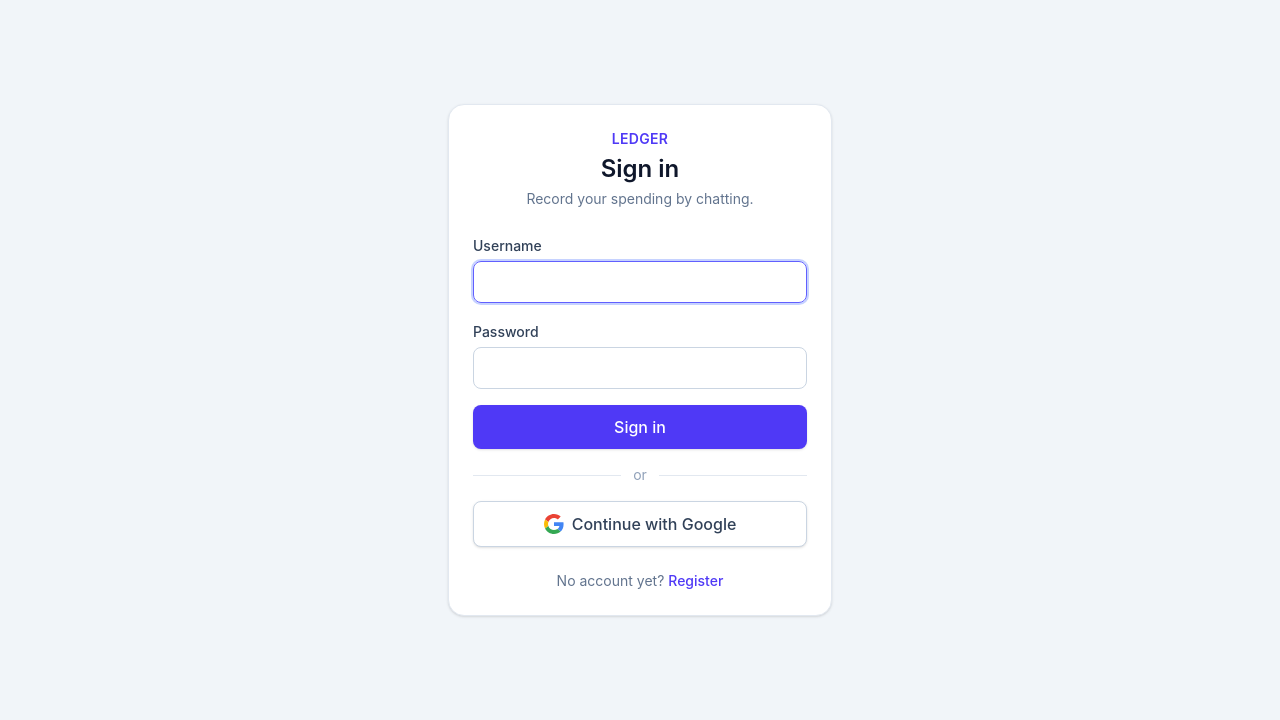
given alice on the chat page › records an expense and shows it
The width and height of the screenshot is (1280, 720).
Type "alice" into the field labelled "Username" at coordinates (640, 282), box top-left (473, 261), bottom-right (807, 303)
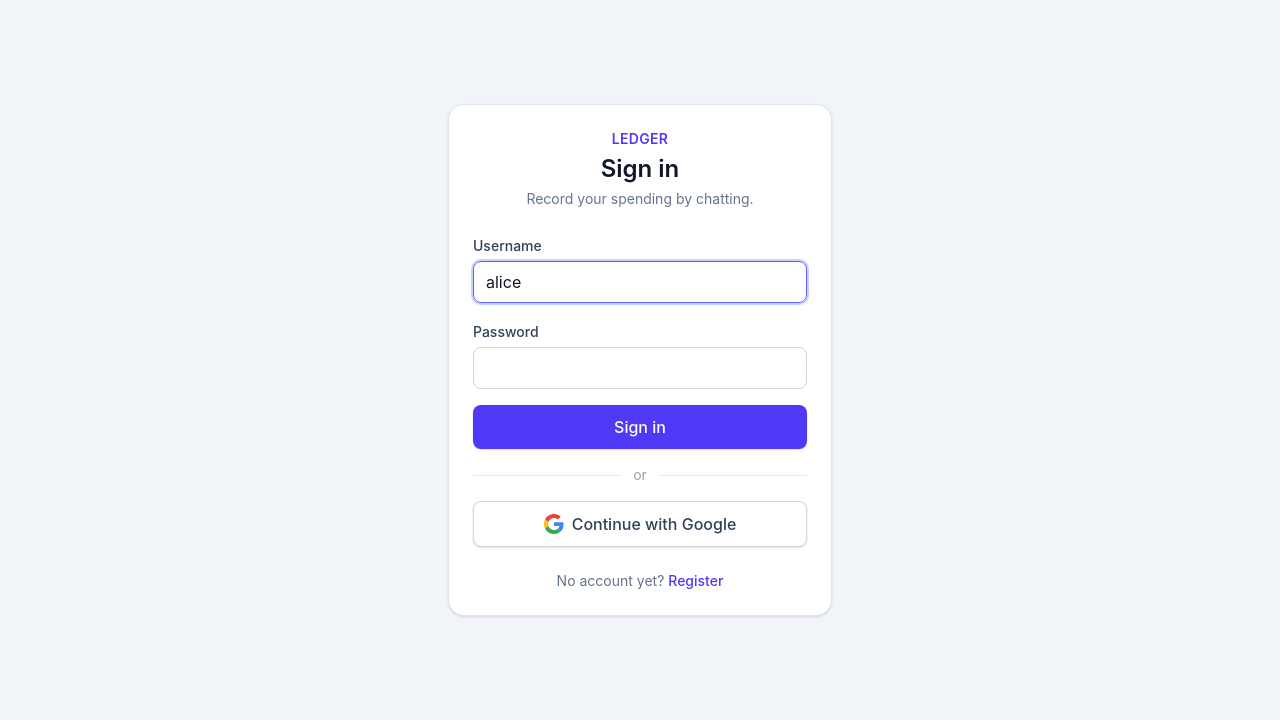
Type "alice-password" into the password field labelled "Password" at coordinates (640, 368), box top-left (473, 347), bottom-right (807, 389)
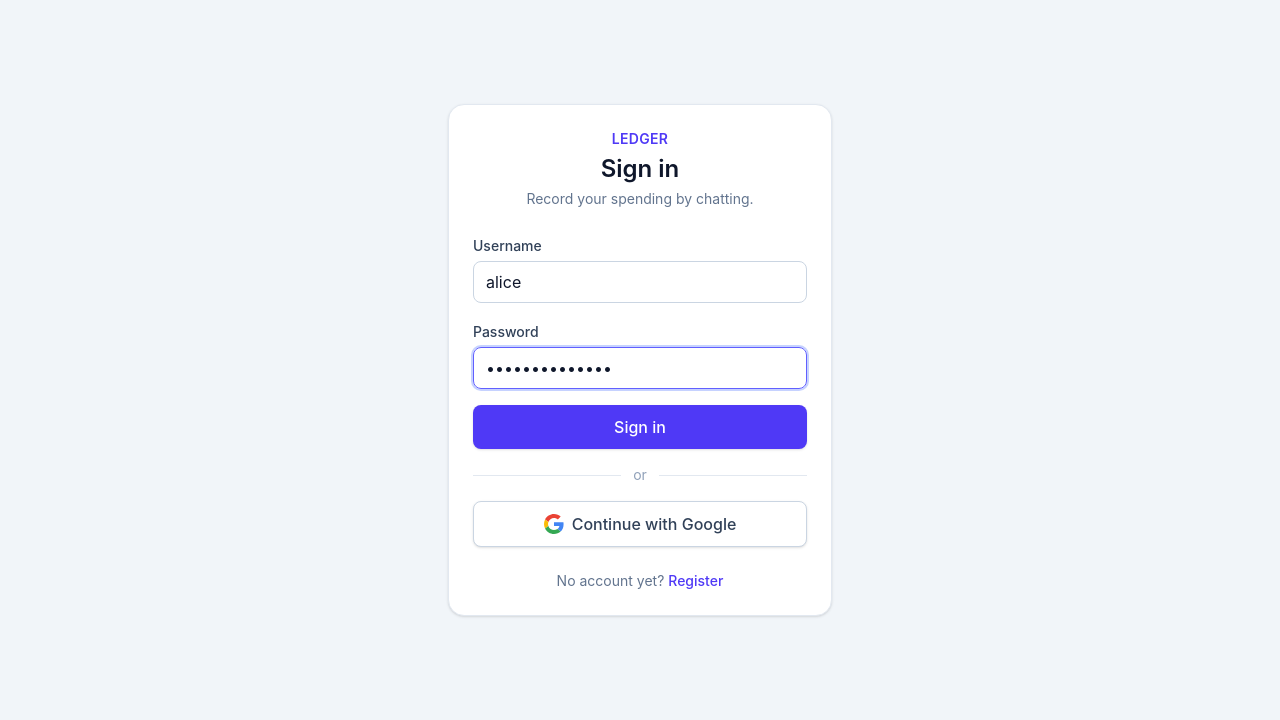
Click the button "Sign in" at coordinates (640, 427), box top-left (473, 405), bottom-right (807, 449)
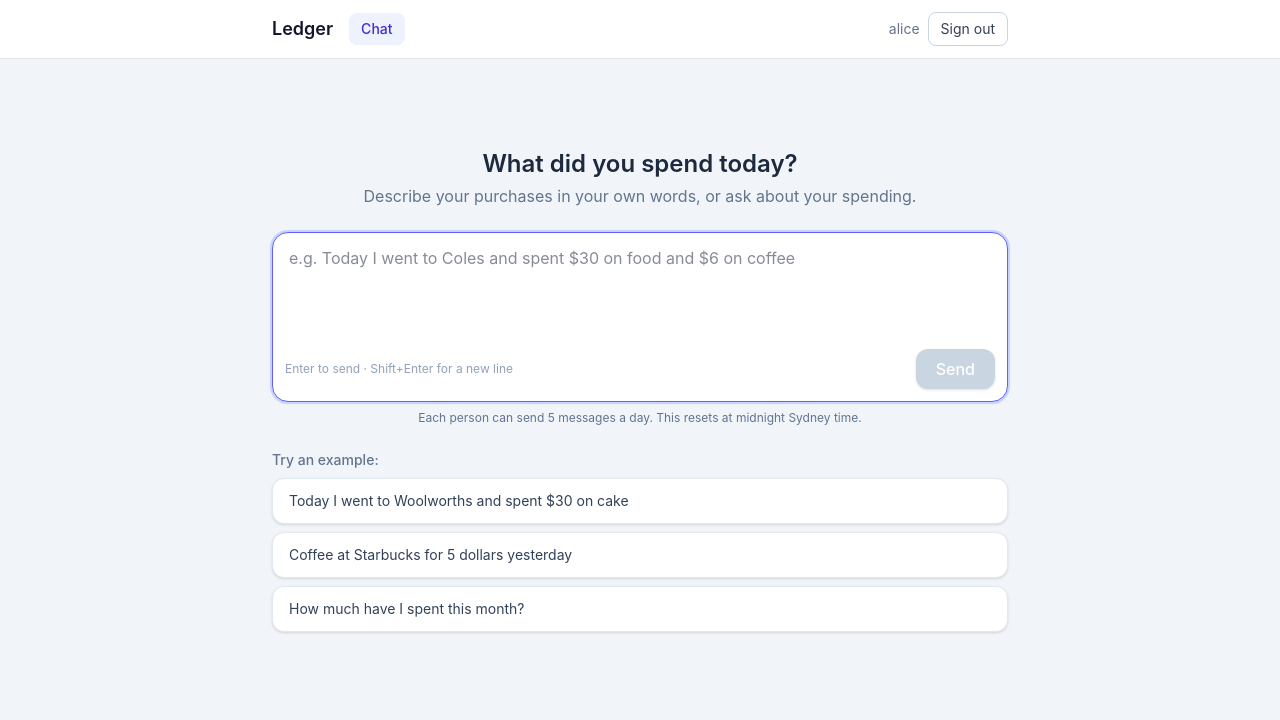
Type "Coffee at Starbucks for $5" into the text box named "describe your spending" at coordinates (640, 290), box top-left (273, 232), bottom-right (1007, 348)
Then press Enter
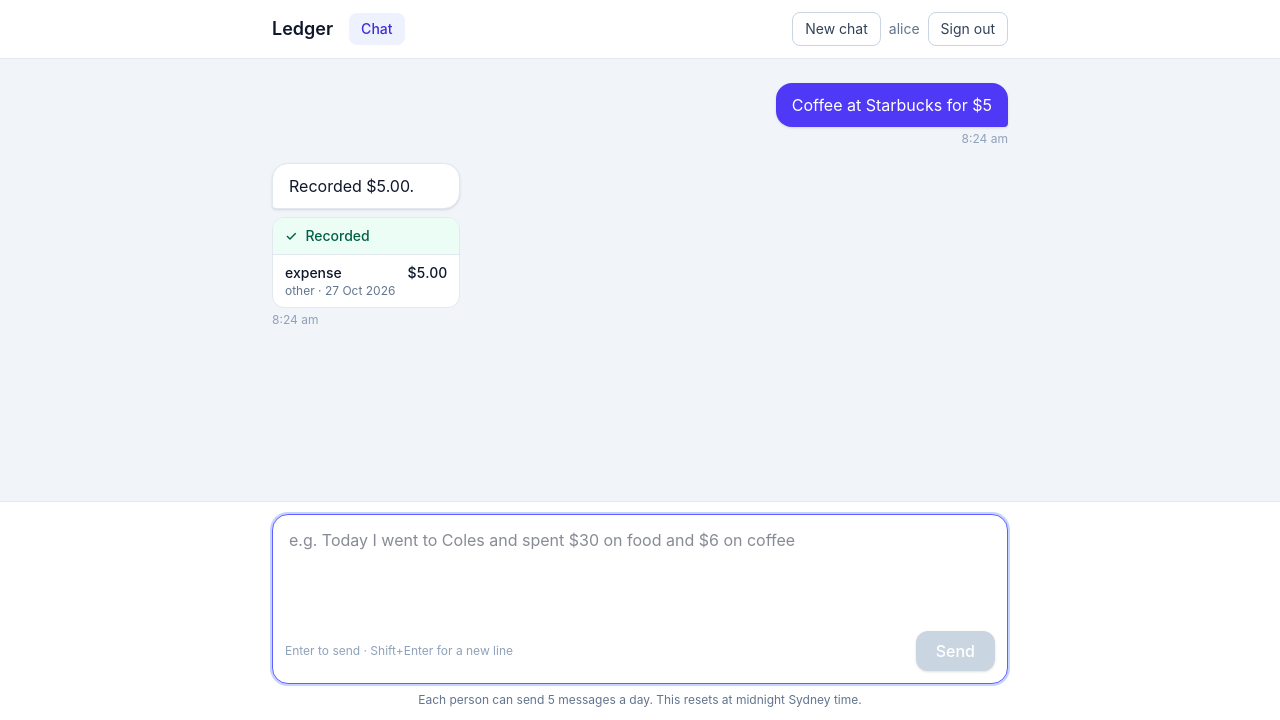
expect the text "Coffee at Starbucks for $5" is shown: met, box top-left (792, 93), bottom-right (992, 117)
expect the text "Recorded $5.00." is shown: met, box top-left (289, 176), bottom-right (414, 196)
expect the text "Recorded" is shown: met, box top-left (305, 227), bottom-right (370, 244)
